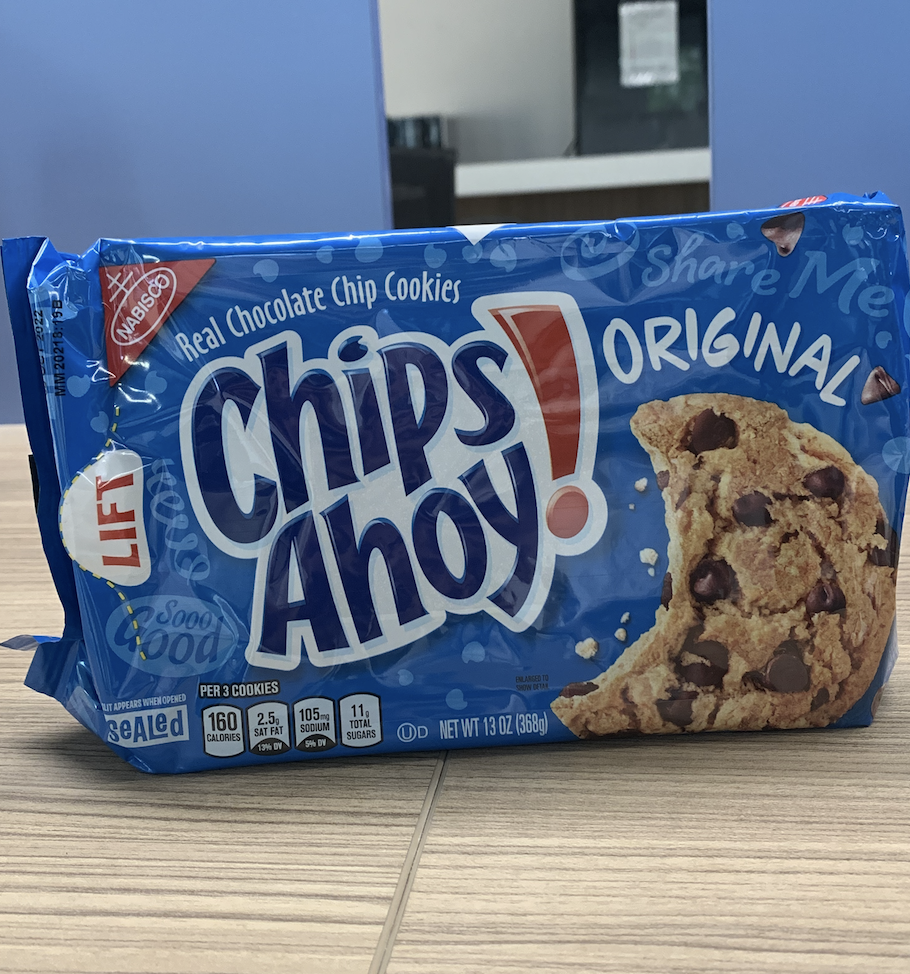cookies_150g: (75, 262, 857, 741)
